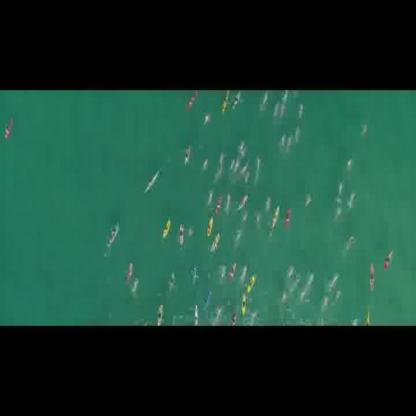Boat: (366, 261, 377, 291), (106, 222, 117, 251), (271, 205, 280, 235), (209, 232, 221, 254), (230, 92, 242, 114), (190, 303, 202, 325), (182, 146, 194, 167), (177, 223, 189, 244), (239, 295, 249, 320), (154, 304, 165, 326), (161, 218, 172, 239), (230, 258, 241, 279), (237, 191, 248, 212), (248, 275, 258, 294), (205, 216, 215, 235)
